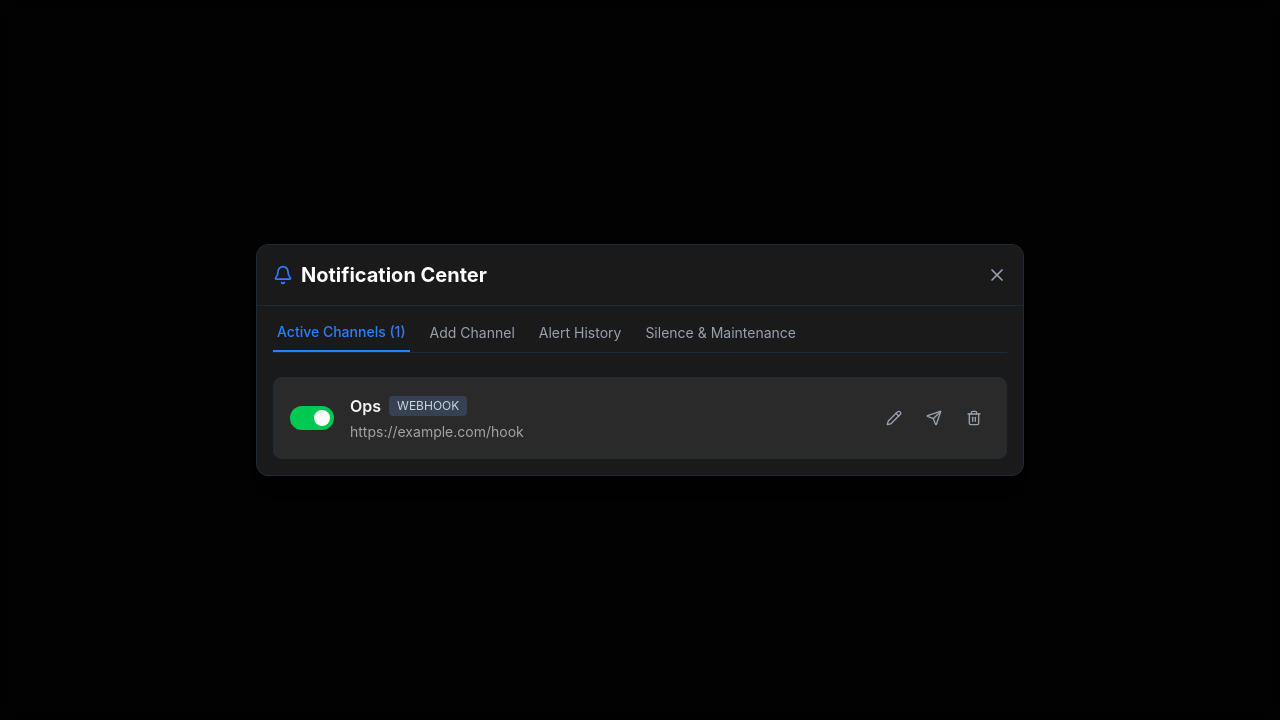
notification channel actions › retains saved form values and returns to the list on cancel
This screenshot has width=1280, height=720.
Expected: the heading "Ops" is shown, [350,394,381,418]
Step 1. Click the button titled "Edit Channel" → (894, 418), box [878,402,910,434]
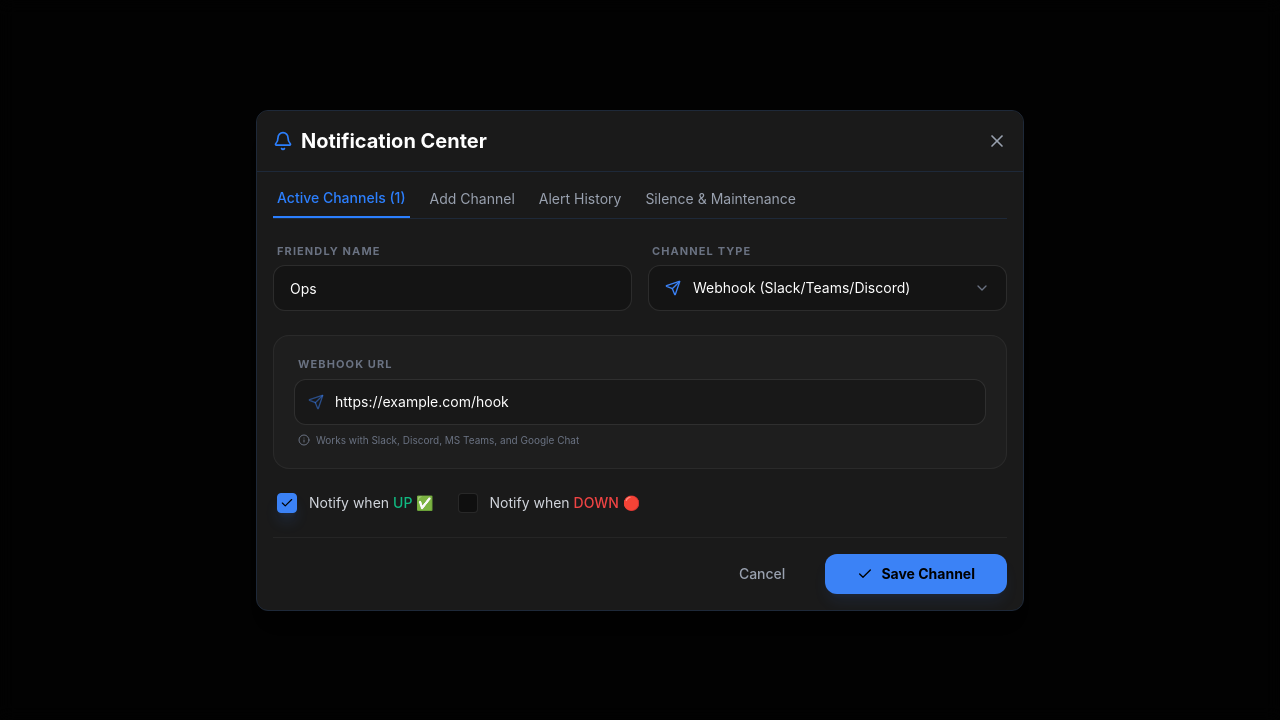
Now the field labelled "Friendly Name" holds "Ops", box [273,265,632,311]
Now the field labelled "Webhook URL" holds "https://example.com/hook", box [294,378,986,424]
Step 2. Click the button "Cancel" → (762, 574), box [715,554,809,594]
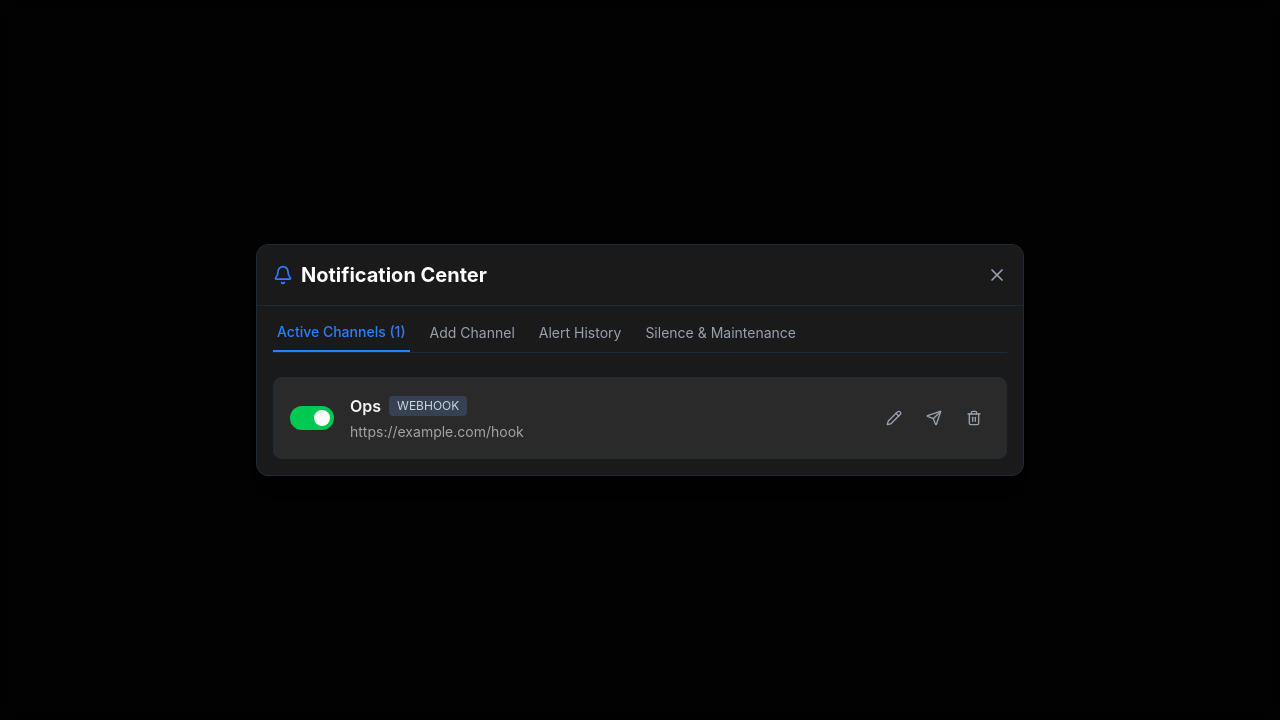
Now the label labelled "Friendly Name" is gone
Now the heading "Ops" is shown, box [350,394,381,418]
